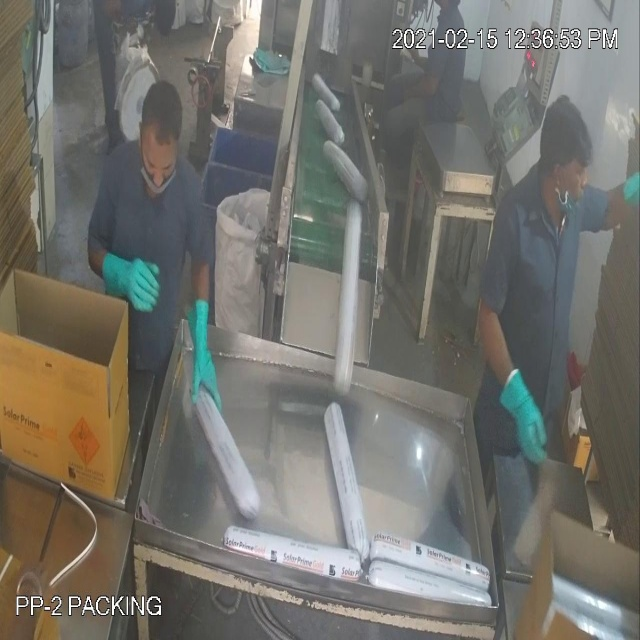Guantes: (498, 355, 556, 479), (183, 290, 233, 425), (95, 237, 166, 325)
